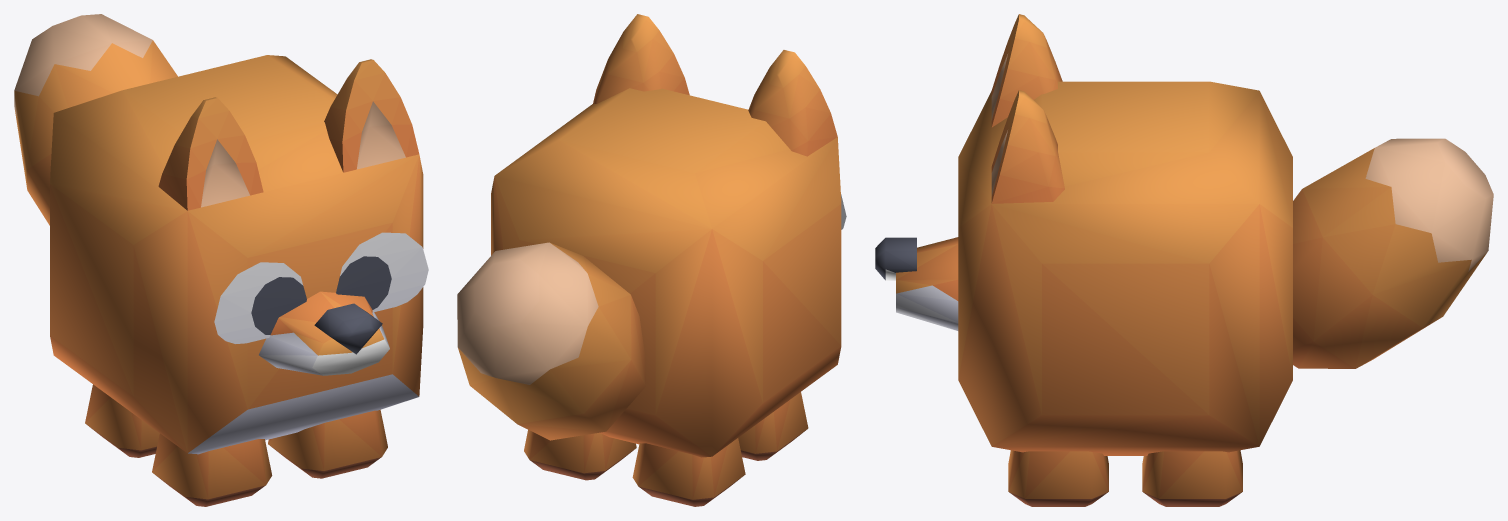
The model's file is animal-fox.obj.
3 renders of one model, left to right at view 1: azimuth 30°, elevation 25°; view 2: azimuth 150°, elevation 25°; view 3: azimuth 270°, elevation 25°, orthographic. The views are drawn at different scales.
Bounding box in the file's own units: 1.25 × 1.69 × 2.31.
